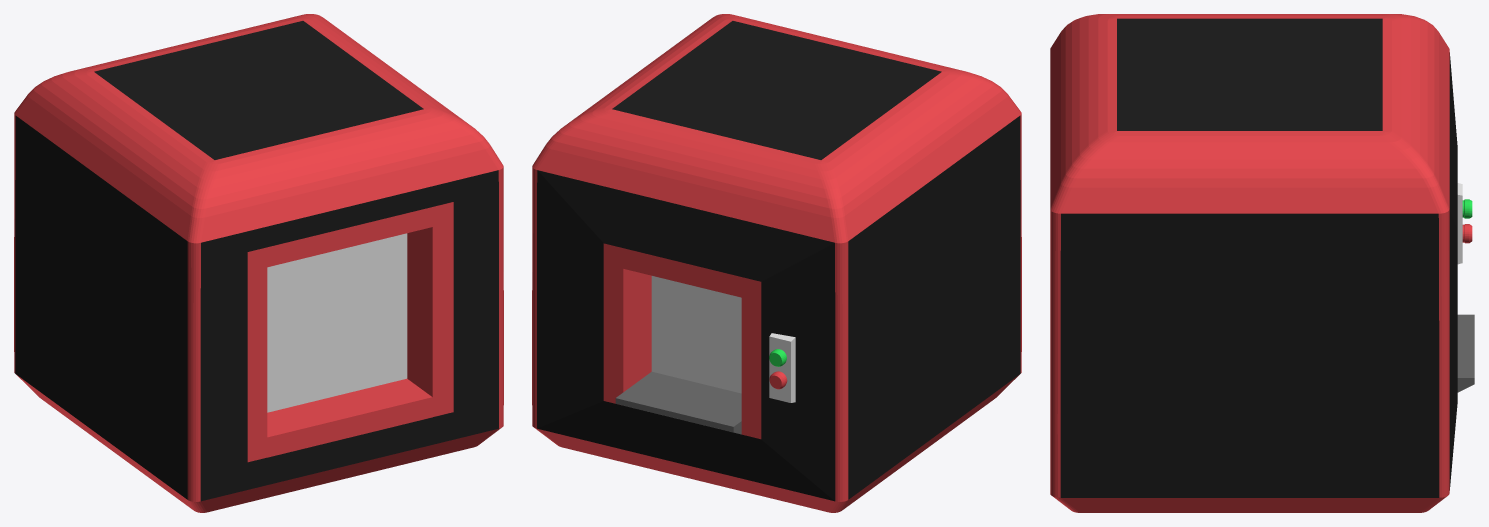
The model's file is Crafter.fbx.
3 views of the same model, side by side, from view 1: azimuth 30°, elevation 25°; view 2: azimuth 150°, elevation 25°; view 3: azimuth 270°, elevation 25° (orthographic). The views are drawn at different scales.
Parts seen in each view (by area): view 1: Cube; view 2: Cube; view 3: Cube.
Boxes of the visible parts, bbox=[...] form: Cube: bbox=[14, 14, 503, 512]; Cube: bbox=[532, 14, 1021, 512]; Cube: bbox=[1050, 14, 1474, 512].
Bounding box in the file's own units: 2000 × 2000 × 2126.
